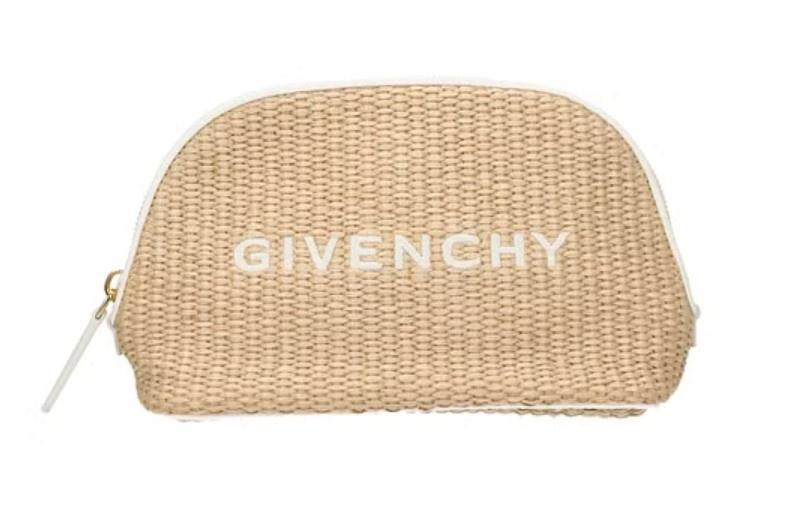GIVENCHY: (229, 219, 574, 282)
